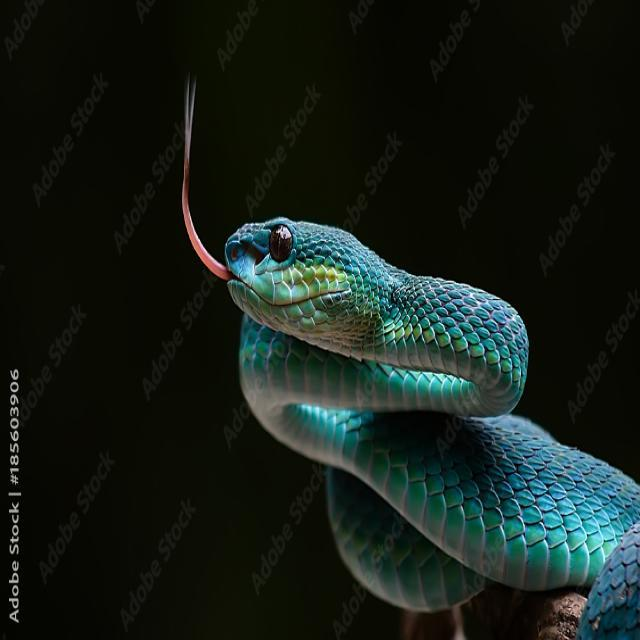Snake: (176, 88, 640, 640)
